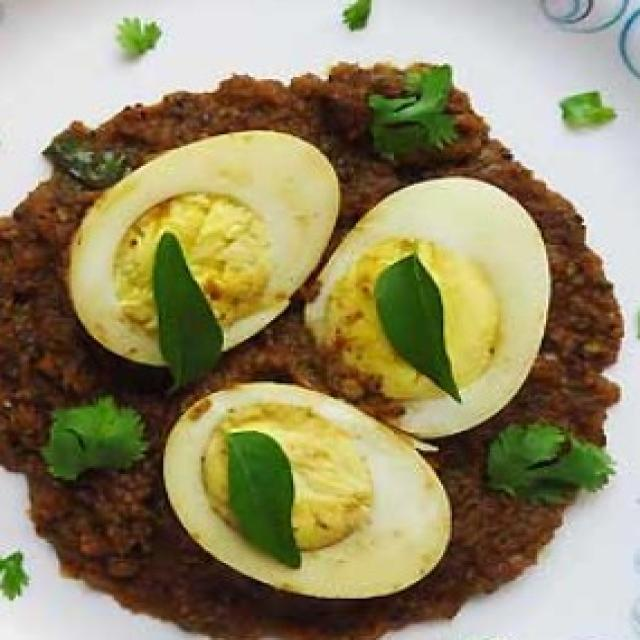EGG: (0, 59, 622, 638)
